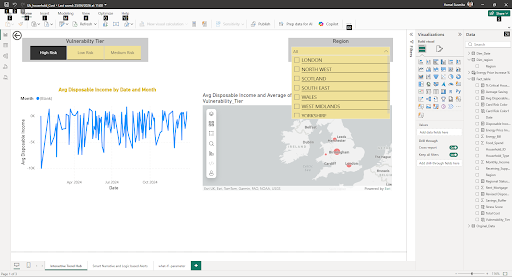

The page's visual inventory and layout, read from the dashboard file:
{"tool":"powerbi","page":{"name":"Interactive Trend Hub","canvas":[1280,720],"ordinal":0},"visuals":[{"type":"lineChart","fields":{"Series":["Dim_Date.Month"],"Y":["Fact_table.Avg Disposable Income"],"Category":["Fact_table.Date"]},"box":[26.3,184.8,571.9,342.4],"z":0},{"type":"actionButton","box":[0,0,100,40],"z":1000},{"type":"slicer","title":"Region ","fields":{"Values":["Fact_table.Region"]},"box":[896.8,27.2,339.4,77.8],"z":2000},{"type":"slicer","title":"Vulnerabilty Tier ","fields":{"Values":["Fact_table.Vulnerability_Tier"]},"box":[36,27.2,407.5,77.8],"z":3000},{"type":"esriVisual","fields":{"Color":["Fact_table.Vulnerability_Tier"],"Size":["Fact_table.Avg Disposable Income"],"Location":["Dim_region.Region"]},"box":[614.7,202.3,621.5,324.9],"z":4000}]}

Visuals, with their boxes on the page's 1280x720 design canvas (x1, y1, x2, y2). These are canvas units, not pixel positions in the 512x277 screenshot, which may show the page scaled, cropped or inside an application window:
lineChart - Dim_Date.Month x Fact_table.Avg Disposable Income: bbox(26, 185, 598, 527)
actionButton: bbox(0, 0, 100, 40)
"Region " slicer: bbox(897, 27, 1236, 105)
"Vulnerabilty Tier " slicer: bbox(36, 27, 444, 105)
esriVisual - Fact_table.Vulnerability_Tier x Fact_table.Avg Disposable Income: bbox(615, 202, 1236, 527)
